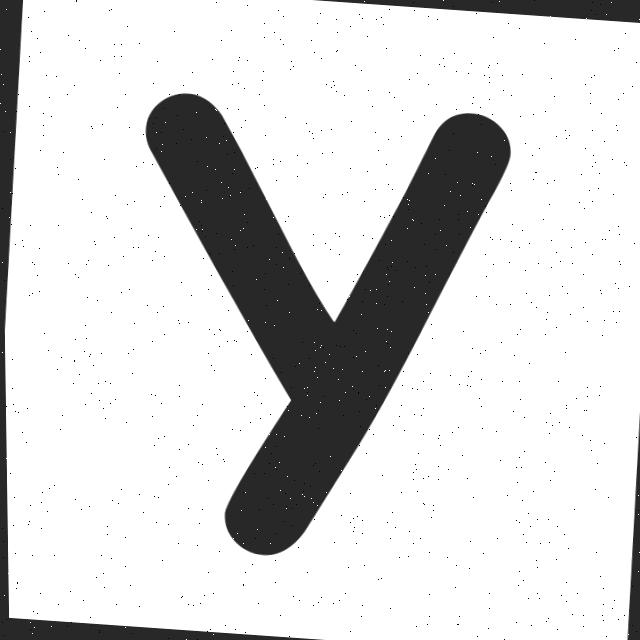Y: (145, 93, 509, 554)
